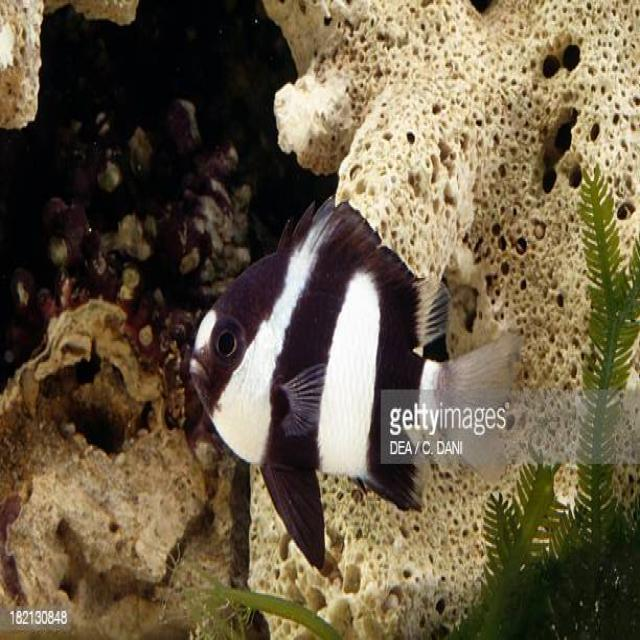ThreeStripedDamselfish: (183, 194, 523, 569)
